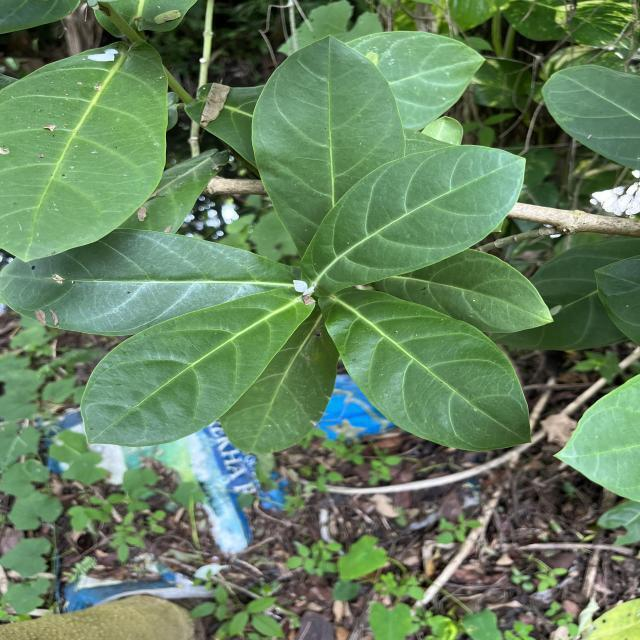Calotropis gigantea: (79, 282, 318, 448), (0, 39, 170, 264), (316, 287, 534, 453), (248, 32, 408, 258), (299, 143, 527, 295), (0, 226, 296, 340)
